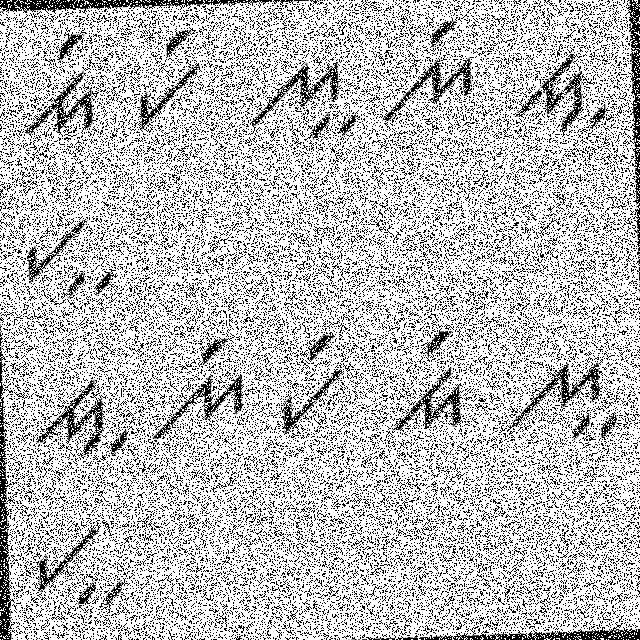dah: (512, 42, 614, 141), (28, 372, 130, 462)
dang: (8, 24, 106, 142), (378, 319, 470, 444)
nah: (504, 341, 624, 447), (245, 44, 358, 148)
nang: (147, 328, 250, 446), (374, 17, 480, 128)
pah: (12, 198, 121, 308), (23, 510, 134, 610)
pang: (125, 22, 212, 134), (269, 320, 351, 438)
